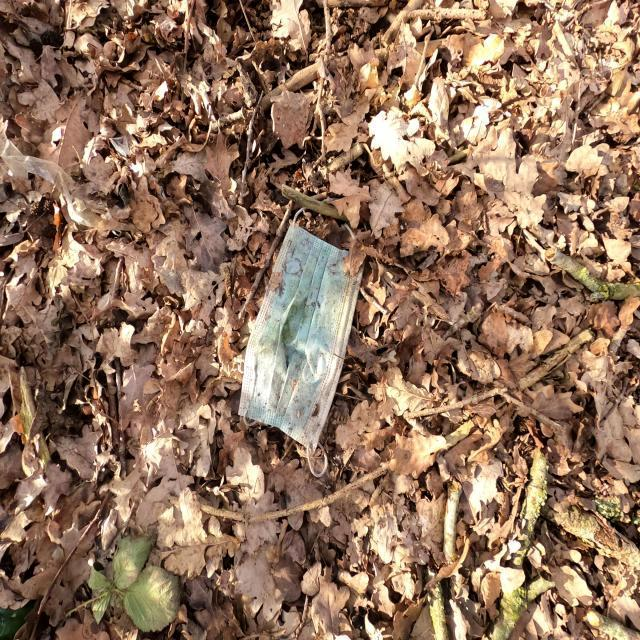Mask: (236, 207, 364, 465)
